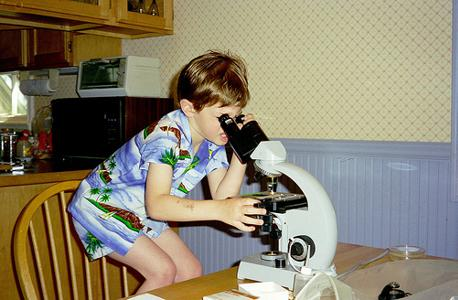person: (70, 53, 269, 296)
